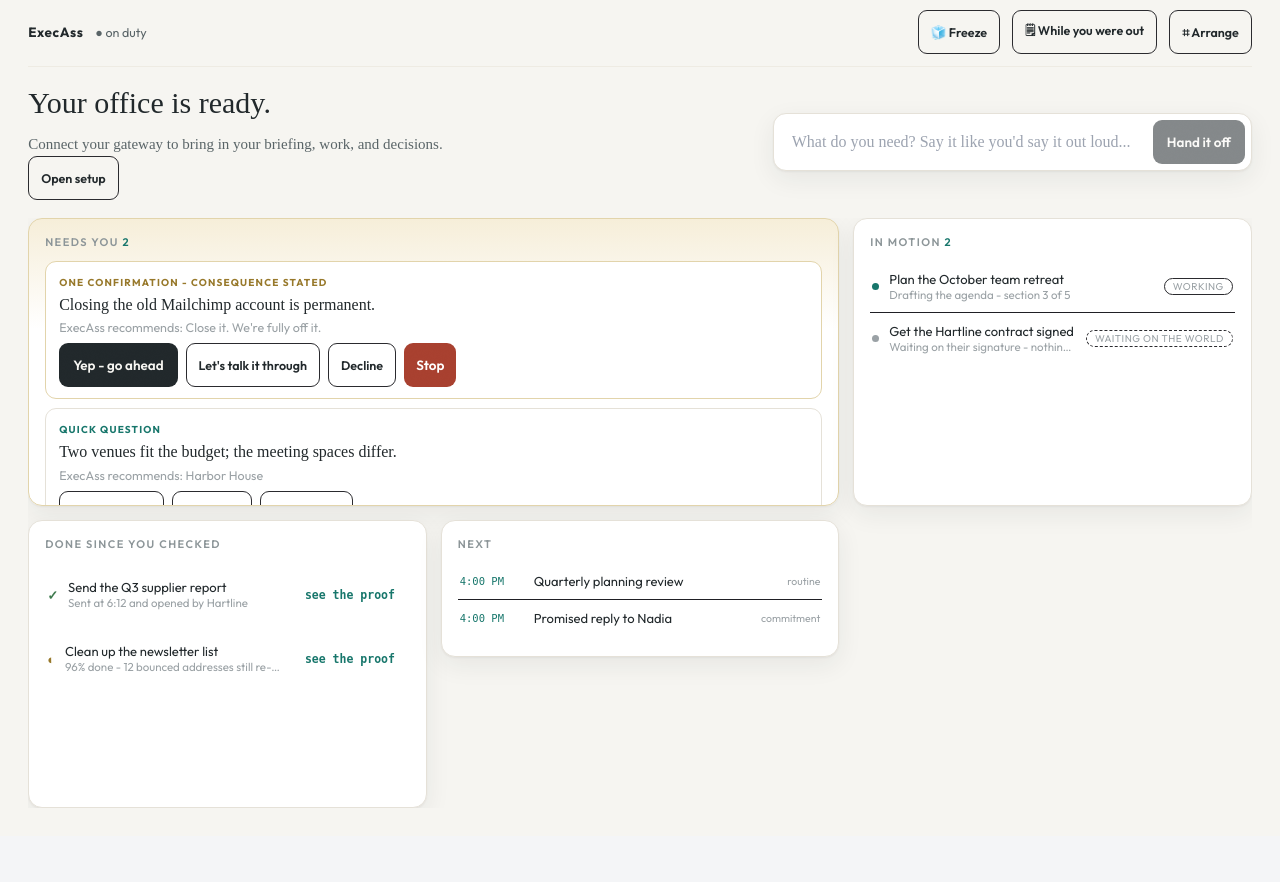
Test: Office block canvas › reports storage failure and leaves the visible arrangement unchanged
The width and height of the screenshot is (1280, 882).
Click the button "⌗ Arrange": (1211, 32) x1=1169 y1=10 x2=1252 y2=54
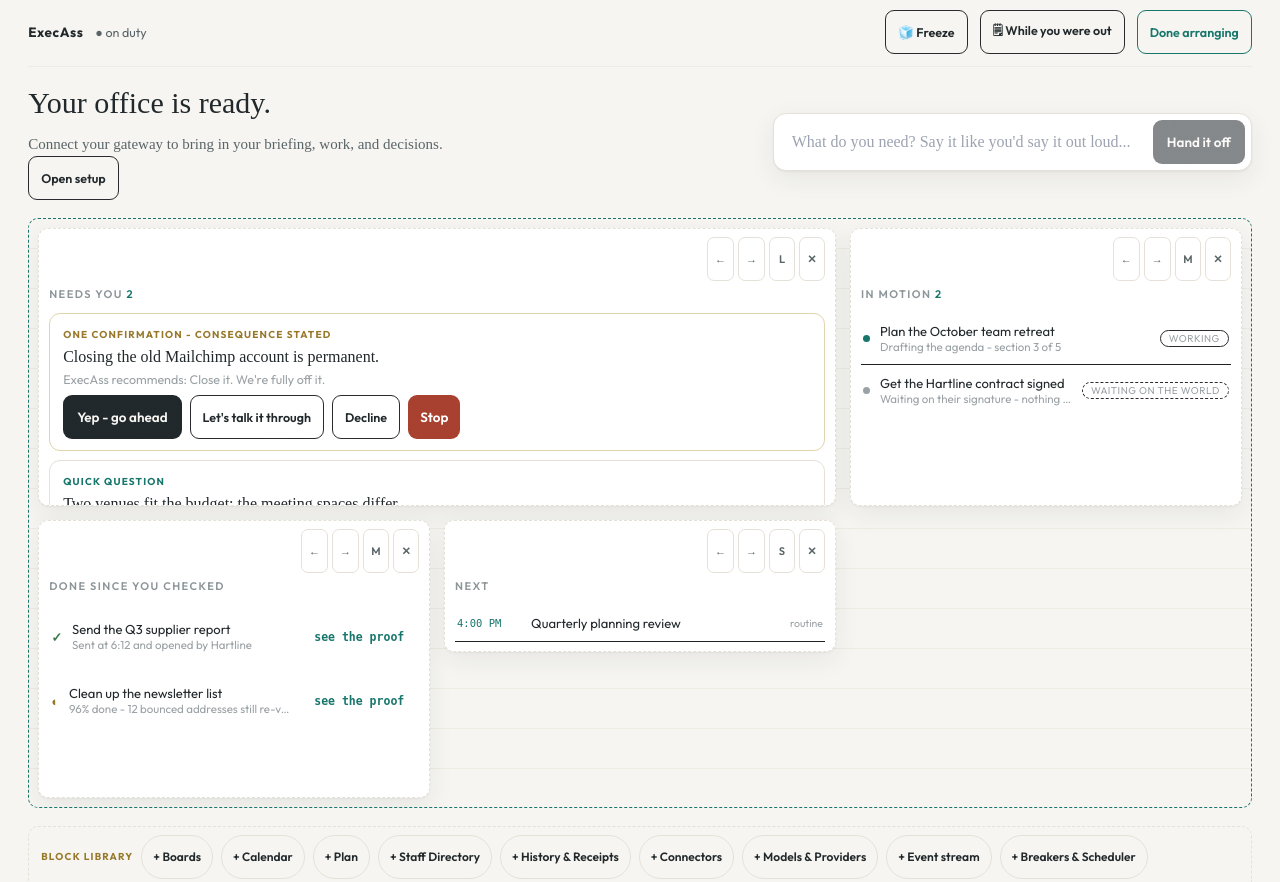
Expected: the 2nd button "←" is shown
Click the 2nd button "←": (1126, 259) x1=1113 y1=237 x2=1140 y2=281
(page scrolled)
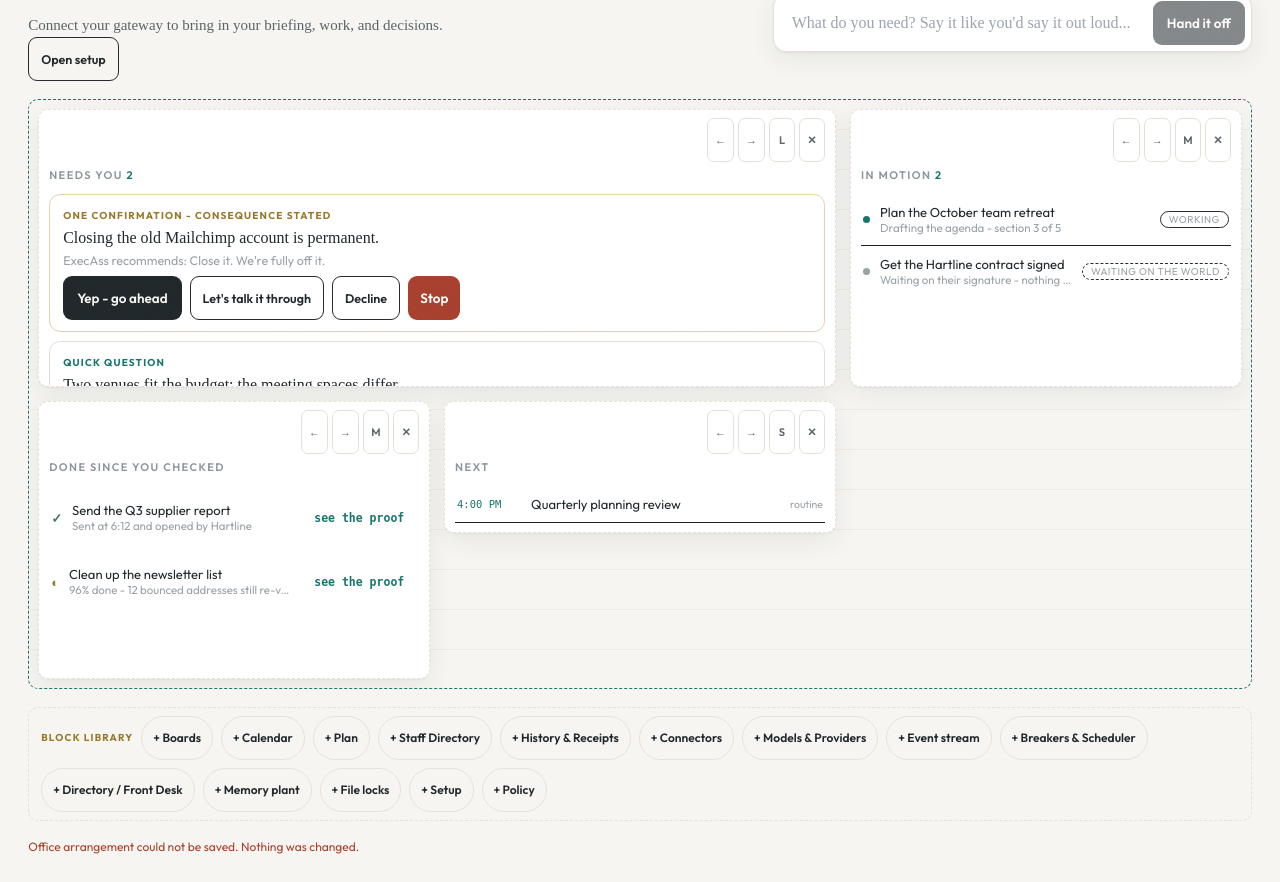
Expected: the message "Office arrangement could not be saved. Nothing was changed." is shown, x1=28 y1=839 x2=359 y2=854
